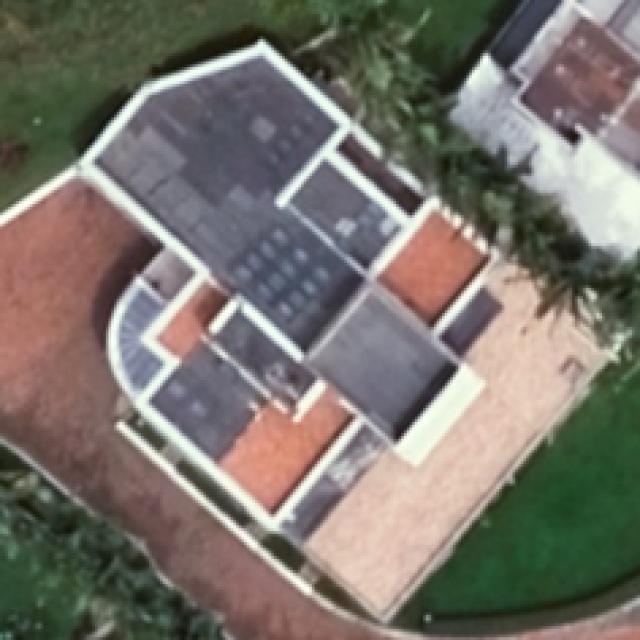Batiment: (78, 41, 501, 544), (511, 1, 640, 180)
